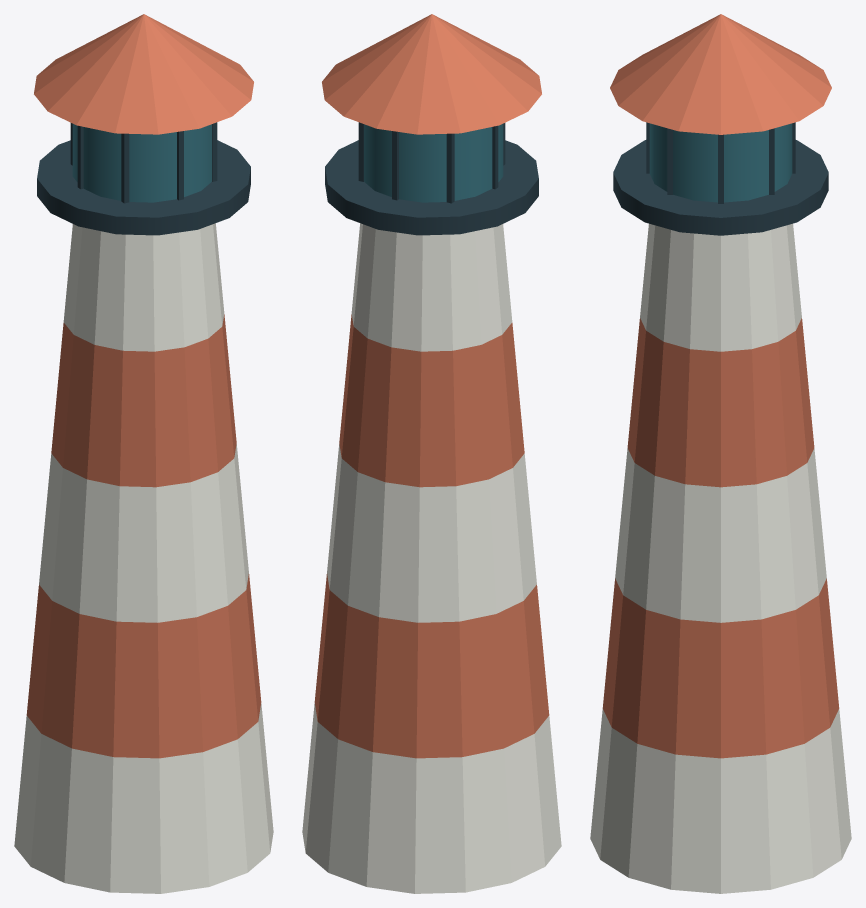
Rendered from CoastLighthouse.fbx.
3 views of the same model, side by side, from view 1: azimuth 30°, elevation 25°; view 2: azimuth 150°, elevation 25°; view 3: azimuth 270°, elevation 25° (orthographic).
Visible parts, largest first — view 1: TowerBand, TowerBand.001, TowerBand.002, TowerBand.003, LanternRoof, TowerBand.004, LanternPlatform, LanternGlass, LanternFrame.005; view 2: TowerBand, TowerBand.001, TowerBand.002, TowerBand.003, LanternRoof, TowerBand.004, LanternPlatform, LanternGlass, LanternFrame.003; view 3: TowerBand, TowerBand.001, TowerBand.002, TowerBand.003, LanternRoof, TowerBand.004, LanternPlatform, LanternGlass.
Boxes of the visible parts, x1,y1,x2,y2 form: TowerBand: (14, 703, 273, 893); TowerBand.001: (26, 574, 261, 758); TowerBand.002: (39, 444, 248, 622); TowerBand.003: (51, 314, 236, 487); LanternRoof: (34, 14, 253, 134); TowerBand.004: (63, 223, 224, 351); LanternPlatform: (37, 140, 250, 235); LanternGlass: (72, 124, 211, 202); LanternFrame.005: (121, 133, 129, 203); TowerBand: (302, 703, 561, 893); TowerBand.001: (314, 574, 549, 758); TowerBand.002: (327, 444, 536, 622); TowerBand.003: (339, 314, 524, 487); LanternRoof: (322, 14, 541, 134); TowerBand.004: (351, 223, 512, 351); LanternPlatform: (325, 140, 538, 235); LanternGlass: (364, 124, 503, 202); LanternFrame.003: (446, 133, 454, 203); TowerBand: (590, 709, 851, 893); TowerBand.001: (602, 578, 839, 758); TowerBand.002: (615, 448, 826, 622); TowerBand.003: (627, 318, 814, 487); LanternRoof: (610, 14, 831, 134); TowerBand.004: (640, 223, 801, 351); LanternPlatform: (613, 140, 828, 235); LanternGlass: (649, 123, 792, 202).
Size of the model in its own units: 4 by 13.93 by 4.
